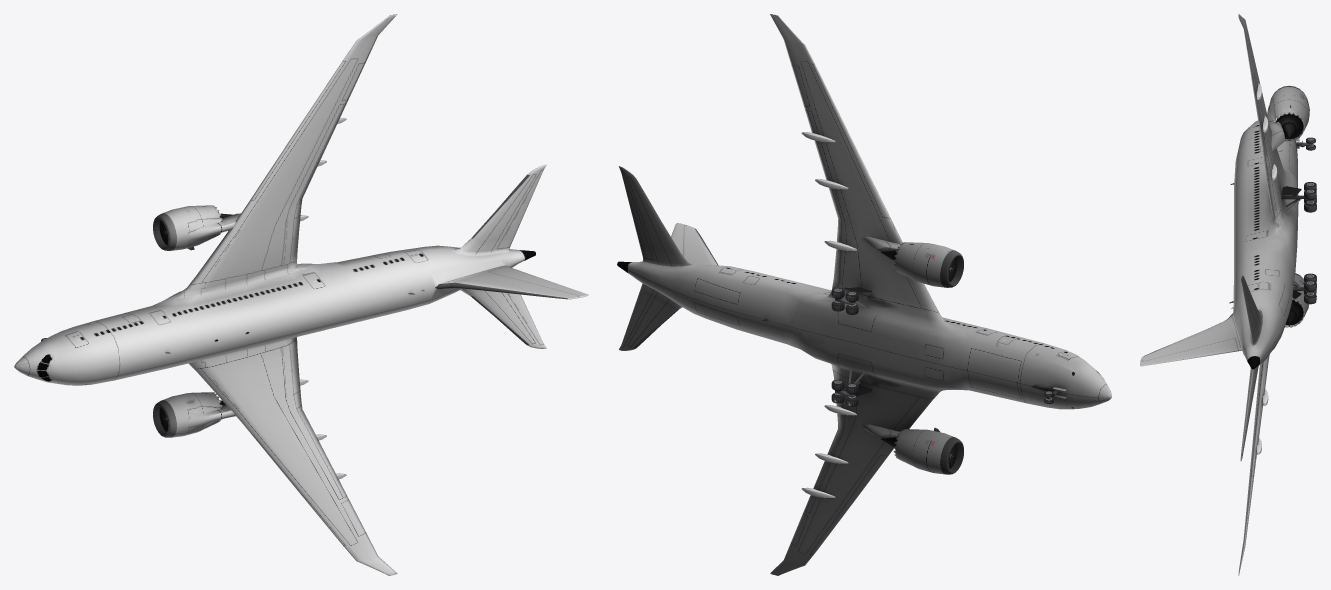
File: boeing-787.obj
3 renders of one model, left to right at view 1: azimuth 30°, elevation 25°; view 2: azimuth 150°, elevation 25°; view 3: azimuth 270°, elevation 25°, orthographic.
Visible parts, largest first — view 1: Cube_Cube.002; view 2: Cube_Cube.002; view 3: Cube_Cube.002.
Part boxes in pixels (bbox=[...]): Cube_Cube.002: bbox=[14, 14, 588, 575]; Cube_Cube.002: bbox=[617, 14, 1111, 575]; Cube_Cube.002: bbox=[1140, 14, 1316, 575].
Bounding box in the file's own units: 57.35 × 59.9 × 17.19.
Materials: 1 (1 with a texture image).
